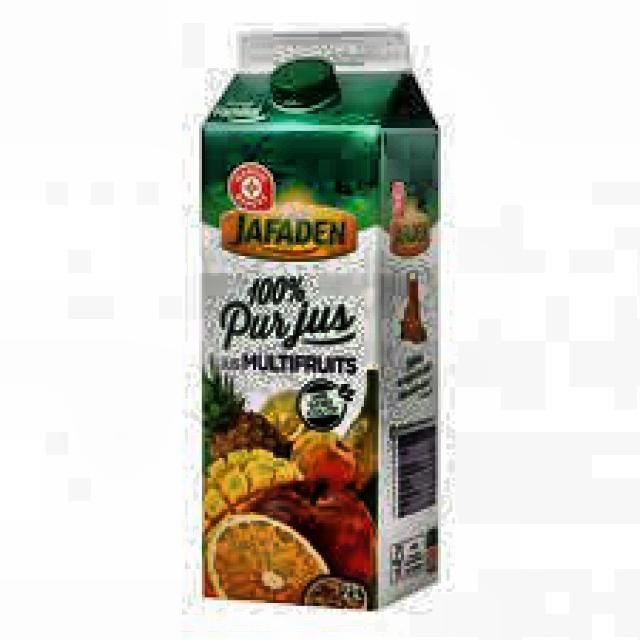cardboard: (196, 28, 441, 609)
